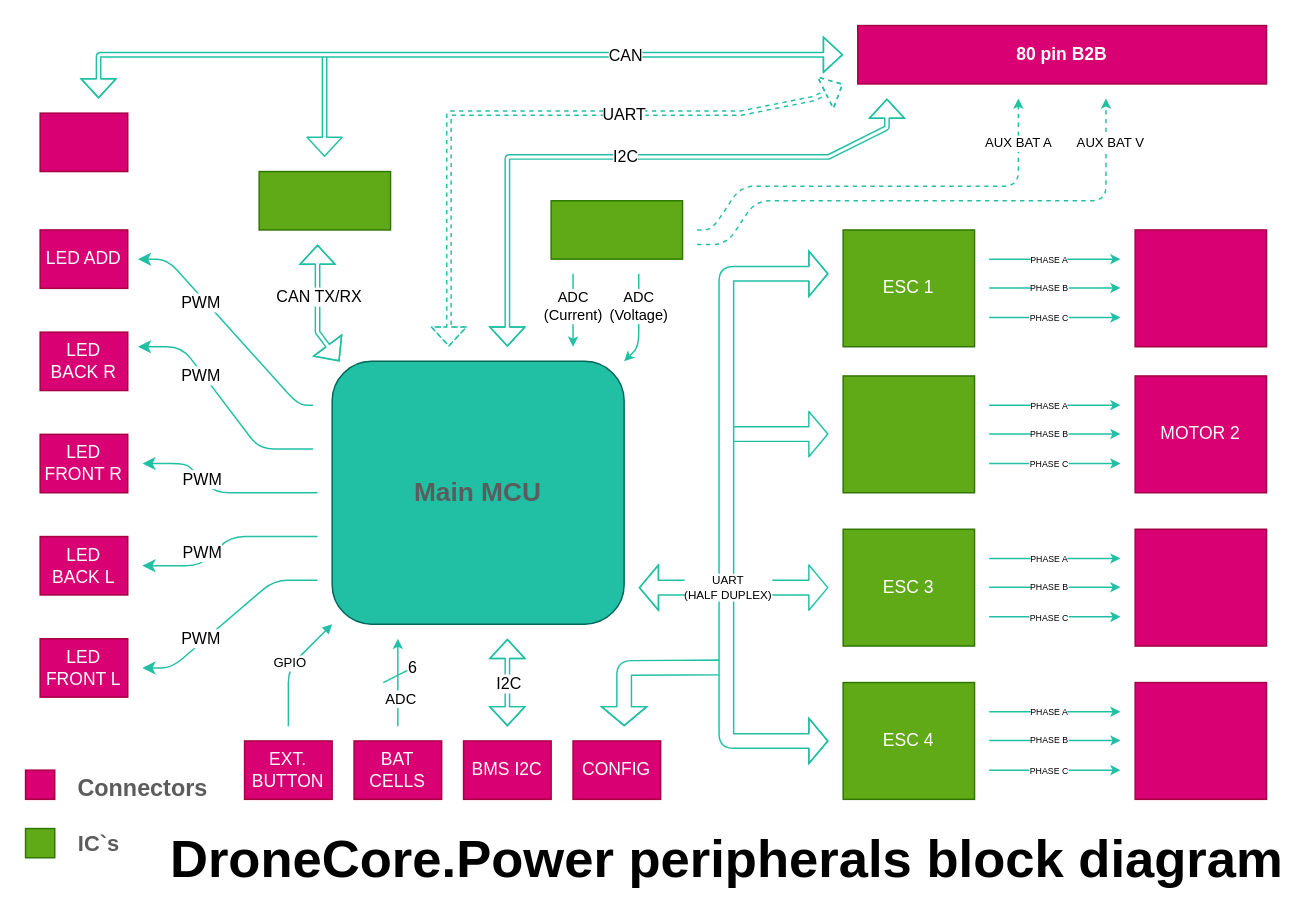
Some shapes in this 1308 by 918 pixel diagram are drawn without their labels. The shapes that lost their labels are listed below. From the top down, each one's box as (x1, y1, x2, y2) in pixels, then its label:
(39, 112, 128, 172): EXT.CAN
(258, 170, 391, 230): CAN TRANSCEIVER
(550, 199, 683, 259): POWER SENSOR
(1134, 228, 1267, 347): MOTOR 1
(842, 374, 975, 493): ESC 2
(1134, 528, 1267, 646): MOTOR 3
(1134, 681, 1267, 799): MOTOR 4
